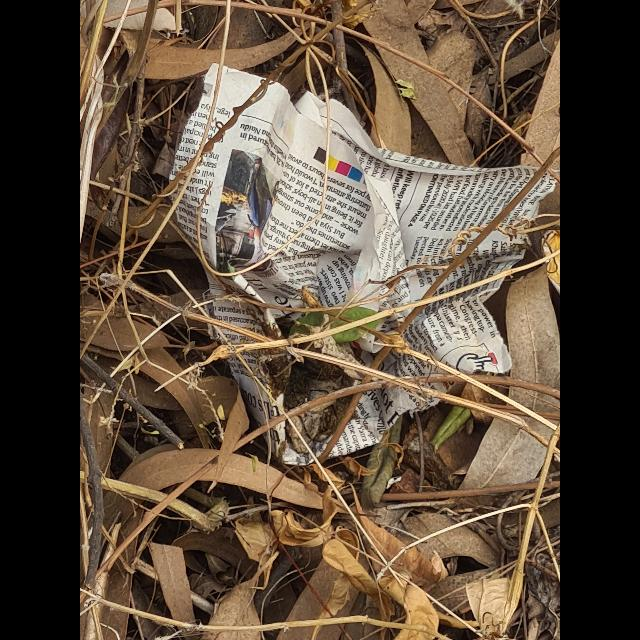trash: (167, 62, 557, 466), (292, 90, 556, 316)
